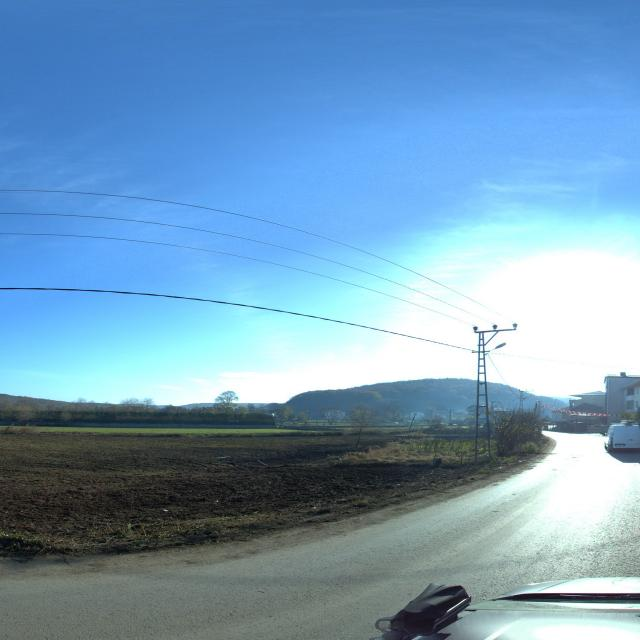Utility Pole Information Plate: (486, 412, 489, 415)
